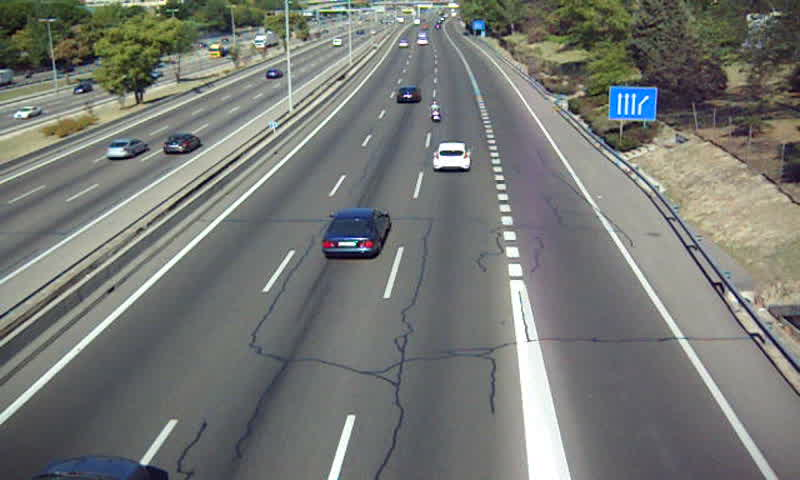car: (323, 208, 392, 257), (434, 142, 472, 173), (395, 87, 422, 104)
motorcycle: (428, 101, 443, 126)
